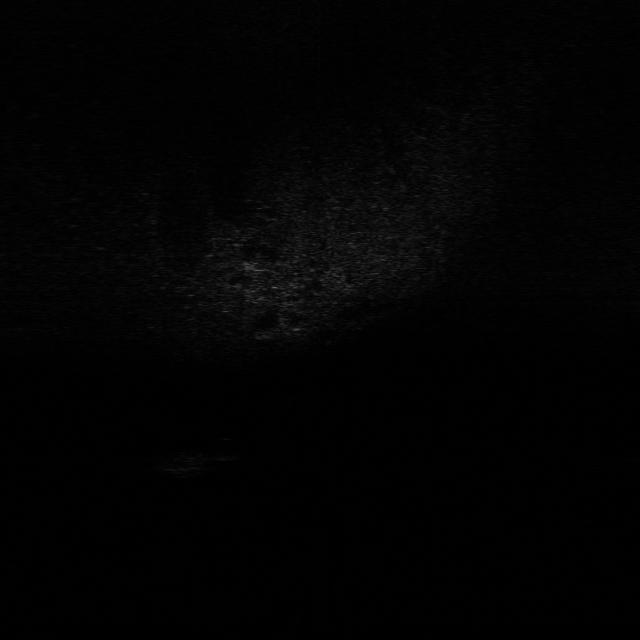ball: (209, 435, 253, 463)
circle cage: (143, 448, 234, 478)
